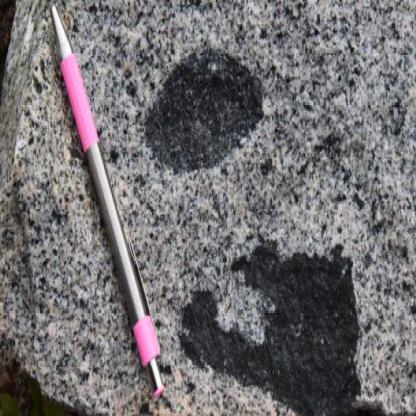Igneous_Granite: (192, 0, 416, 408)
